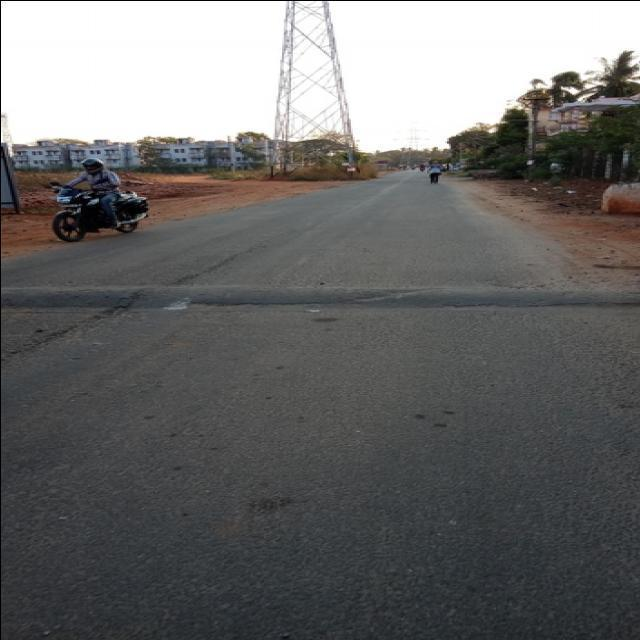NonMarked Bump: (21, 276, 640, 318)
